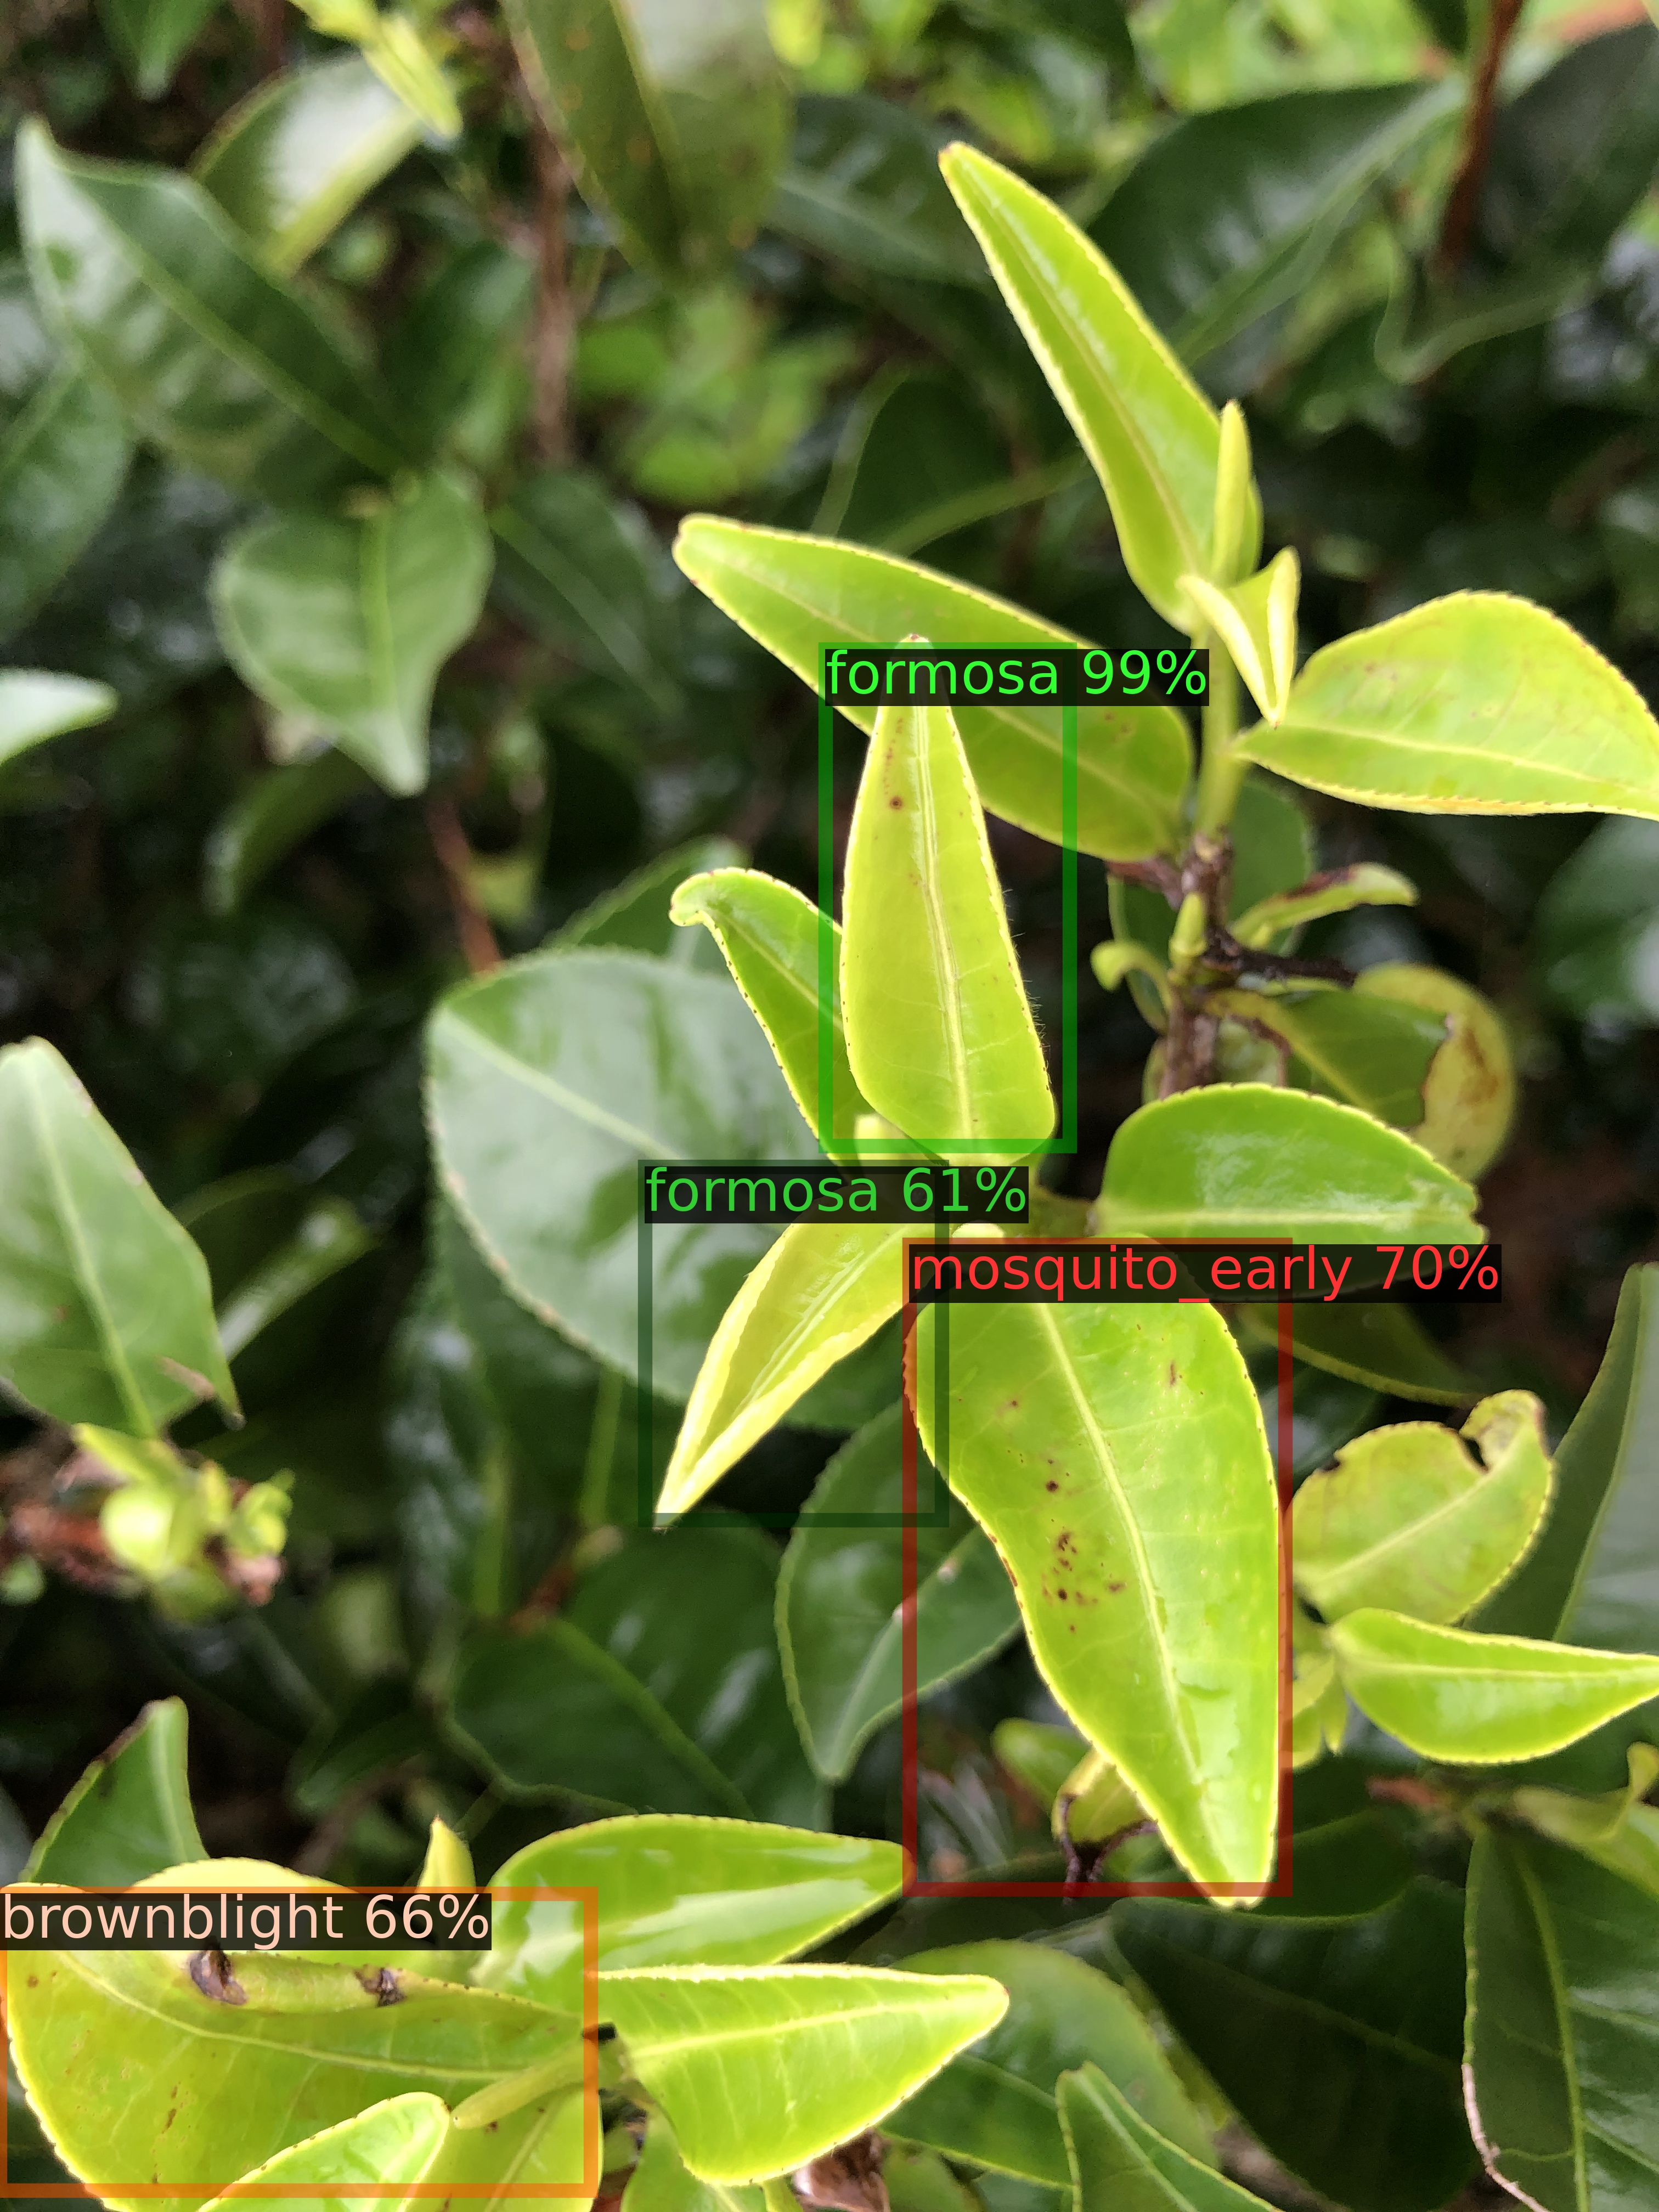brownblight: (0, 1893, 591, 2189)
formosa: (824, 650, 1070, 1146), (645, 1167, 941, 1519)
mosquito_early: (910, 1244, 1284, 1890)
